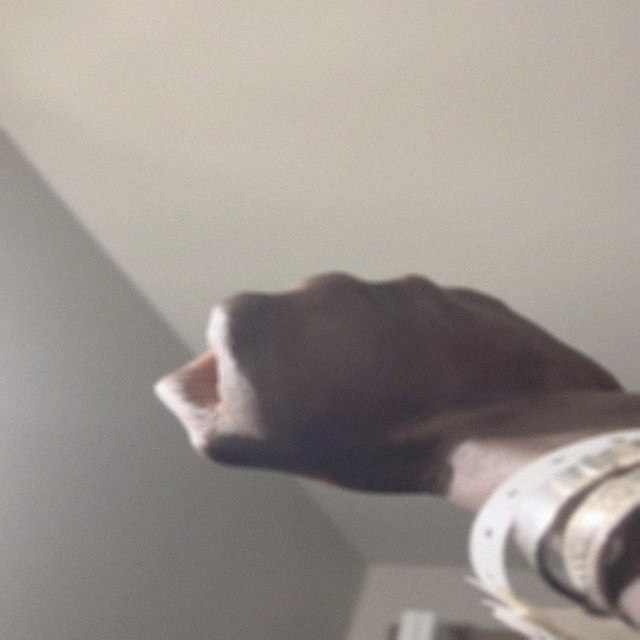Rock: (156, 269, 630, 495)
